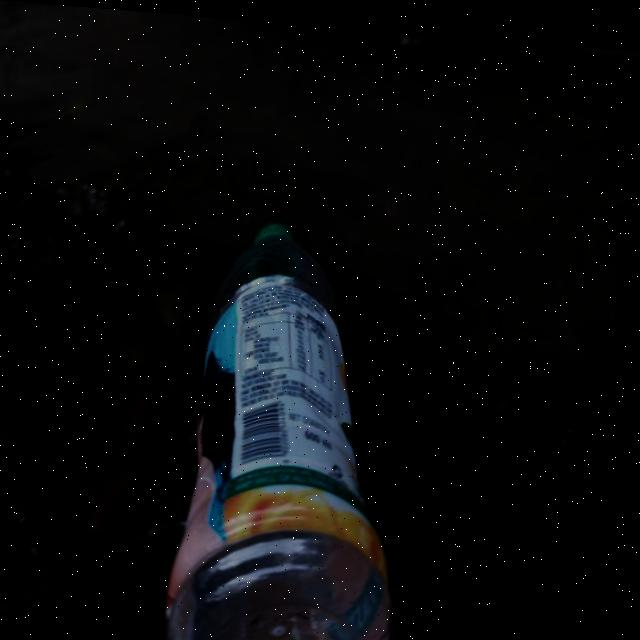waterbottle: (157, 190, 449, 640)
